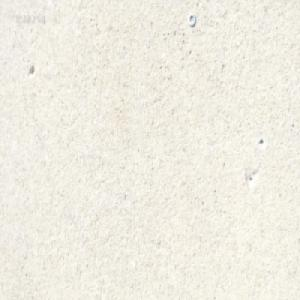Washer: (187, 13, 195, 27)
